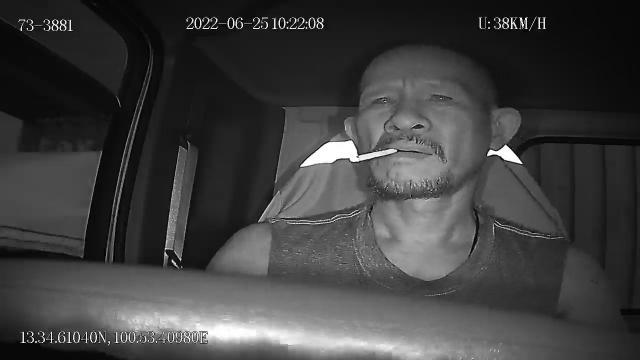SafeDriving: (362, 86, 402, 116), (421, 84, 462, 112)
Smoking: (349, 148, 397, 166)
